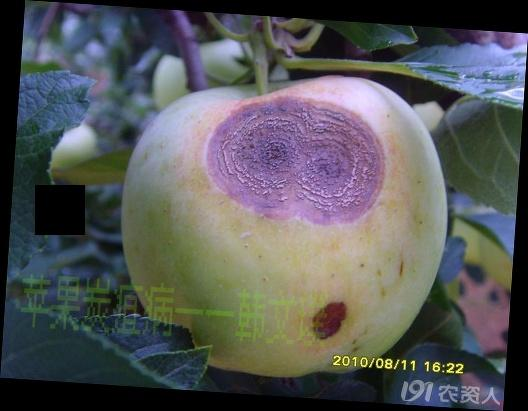rotten apple: (120, 69, 448, 382), (311, 300, 353, 344)
